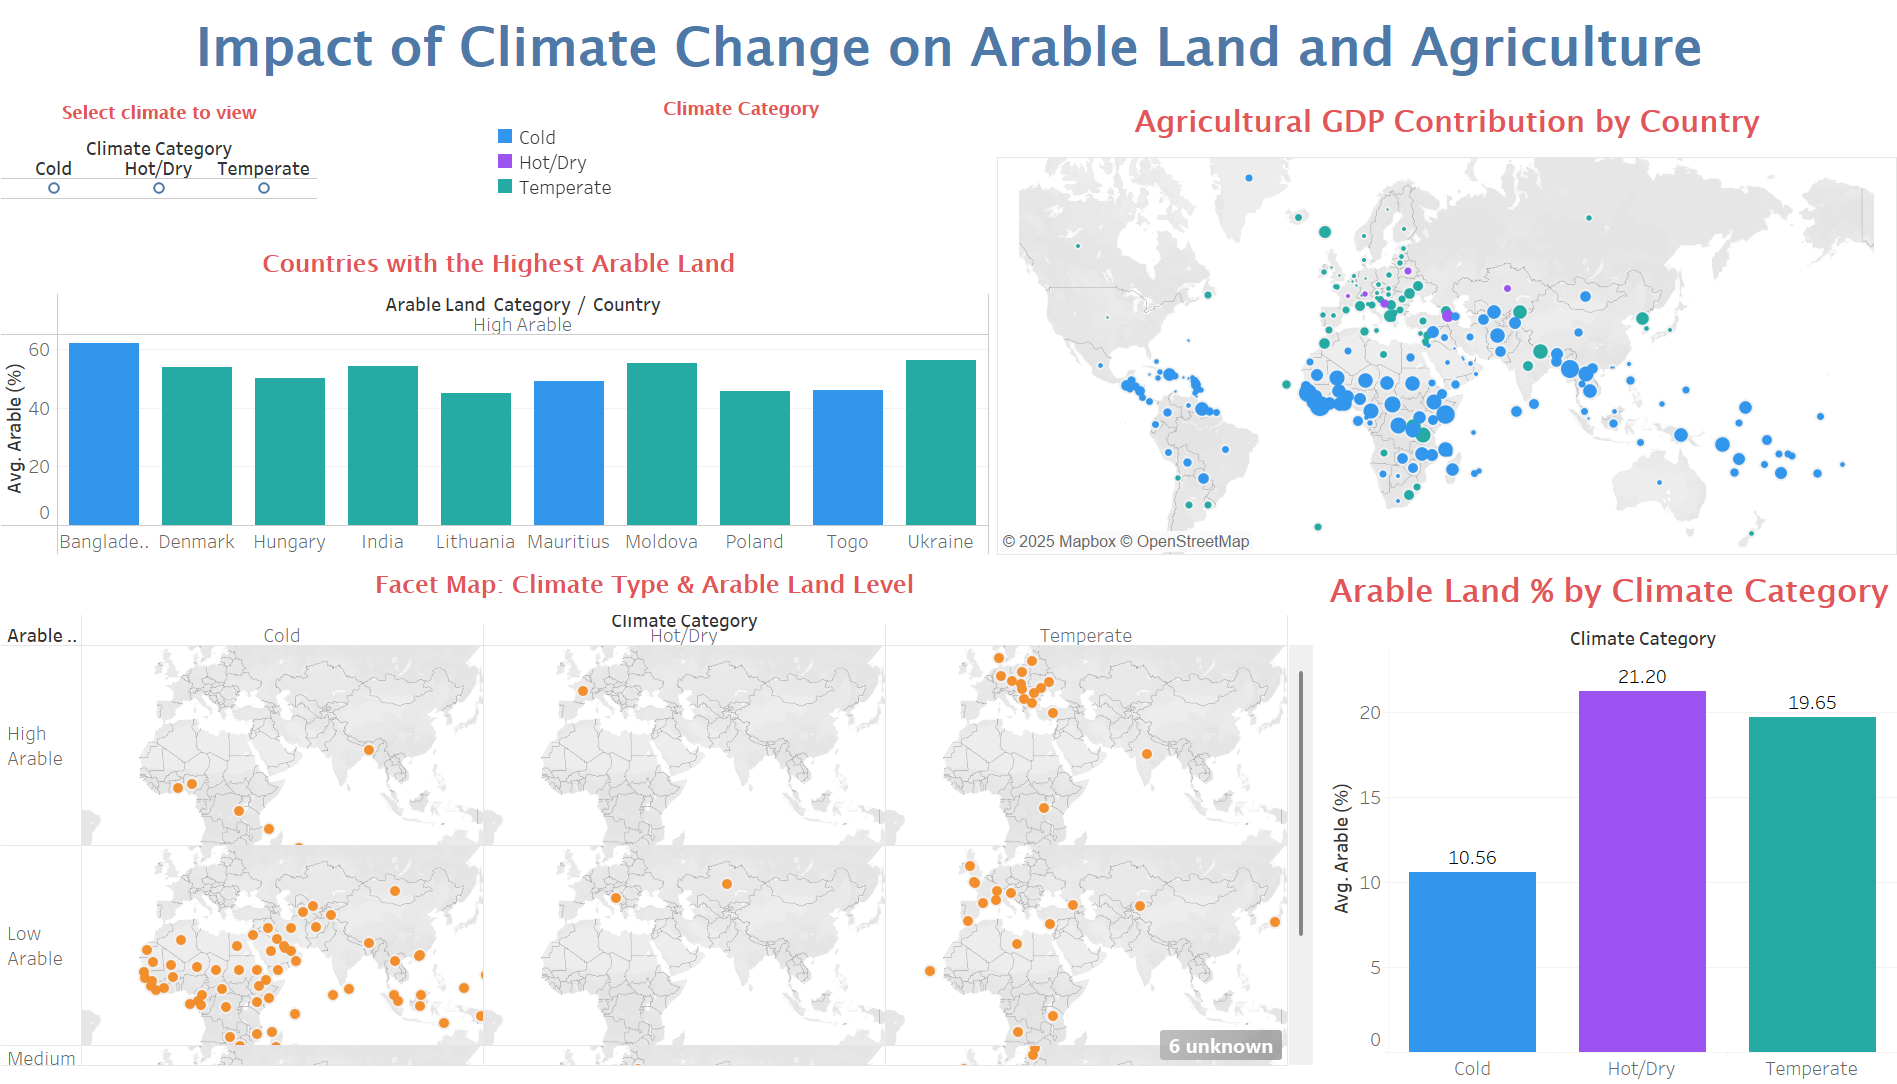

This screenshot's page, from the dashboard's own definition file:
{"tool":"tableau","page":{"name":"Dashboard 6","canvas":[1000,1000],"units":"permille","ordinal":5},"visuals":[{"type":"text","box":[4.3,9.8,991.4,77.5]},{"type":"worksheet","title":"Sheet 22","mark":"Shape","cols":["Calculation_997828849920741385"],"box":[4.3,87.4,256.3,132.9]},{"type":"legend","title":"Sheet 23","param":"[federated.1c3u9131ed1j9b19gkh9f0900v8d].[none:Calculation_997828849920741385:nk","box":[260.6,87.4,262.3,132.9]},{"type":"worksheet","title":"Sheet 23","mark":"Automatic","box":[522.9,87.4,472.8,424.9]},{"type":"worksheet","title":"Sheet 26","mark":"Automatic","rows":["arable_(%)"],"cols":["Calculation_997828849922797578","country"],"box":[4.3,220.3,518.5,292]},{"type":"worksheet","title":"Sheet 25","mark":"Automatic","rows":["Calculation_997828849922797578"],"cols":["Calculation_997828849920741385"],"box":[4.3,512.2,687.3,477.9]},{"type":"worksheet","title":"Sheet 24","mark":"Automatic","rows":["arable_(%)"],"cols":["Calculation_997828849920741385"],"box":[691.7,512.2,304,477.9]}]}

Visuals, with their boxes on the dashboard's canvas, which has no fixed pixel size, in thousandths of its width and height (x1, y1, x2, y2). These are canvas units, not pixel positions in the 1897x1084 screenshot, which may show the page scaled, cropped or inside an application window:
text: [x1=4, y1=10, x2=996, y2=87]
"Sheet 22" worksheet (Shape marks): [x1=4, y1=87, x2=261, y2=220]
"Sheet 23" legend: [x1=261, y1=87, x2=523, y2=220]
"Sheet 23" worksheet: [x1=523, y1=87, x2=996, y2=512]
"Sheet 26" worksheet: [x1=4, y1=220, x2=523, y2=512]
"Sheet 25" worksheet: [x1=4, y1=512, x2=692, y2=990]
"Sheet 24" worksheet: [x1=692, y1=512, x2=996, y2=990]
